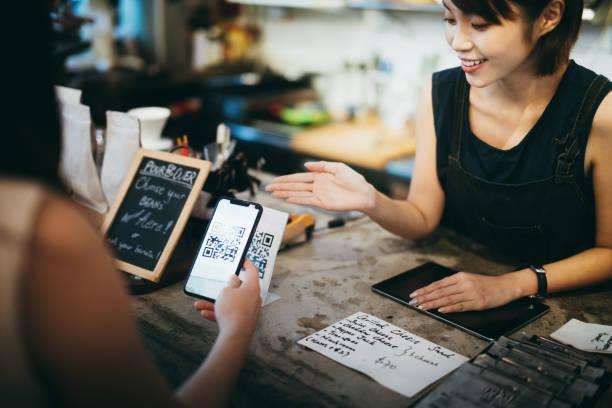Finder pattern: (260, 231, 275, 249), (201, 246, 217, 260), (209, 221, 222, 234), (232, 225, 245, 238)
